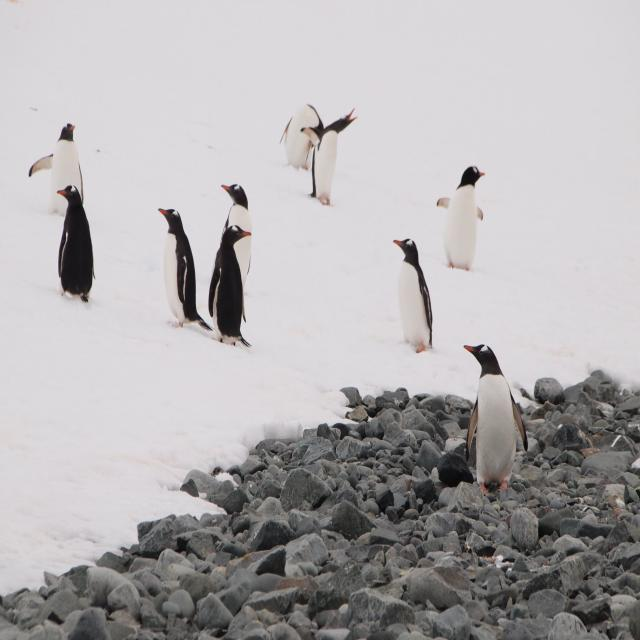Penguins: (462, 336, 528, 502), (432, 160, 497, 278), (152, 204, 204, 328), (302, 105, 357, 207), (388, 234, 434, 352), (58, 178, 98, 306), (210, 222, 252, 338), (216, 183, 256, 290), (46, 120, 89, 218), (278, 89, 317, 189)
